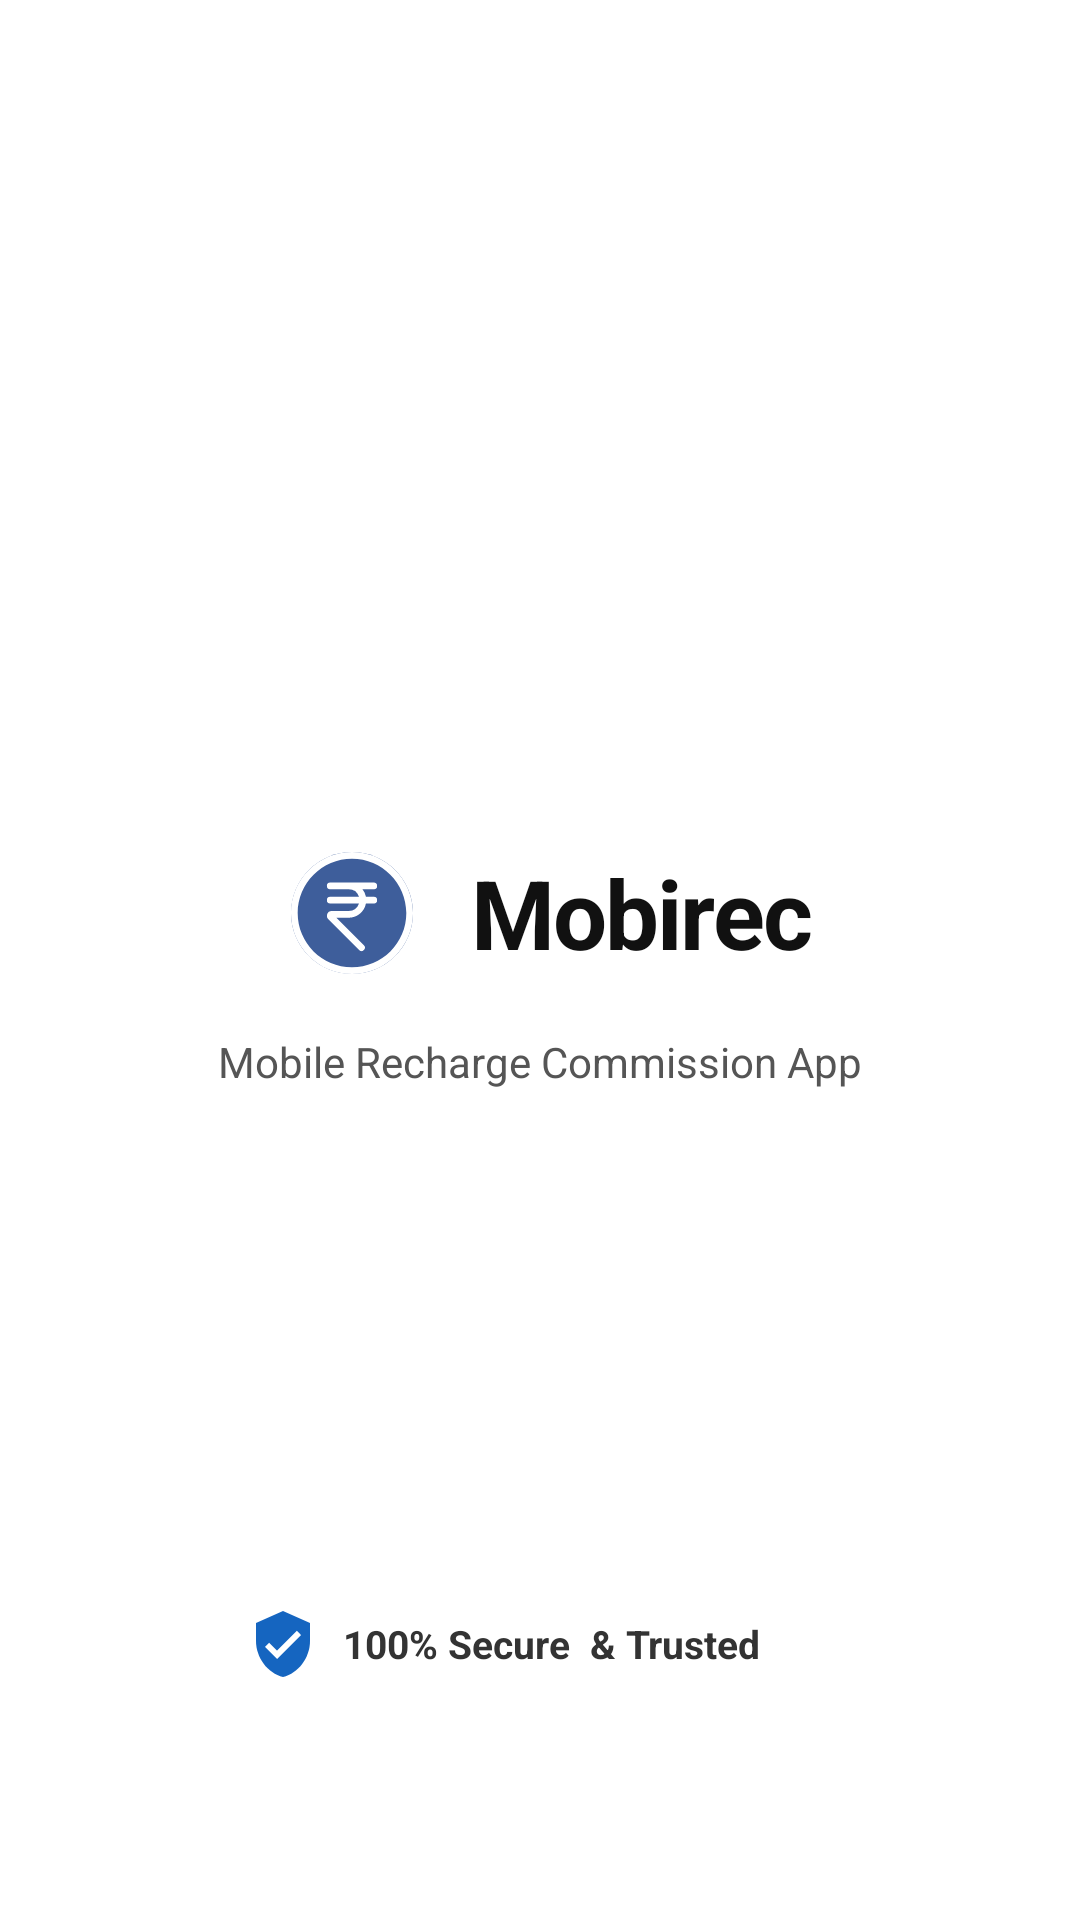

Named icons in this screenshot (1080 x 1920) and their bounding boxes, (x1, y1, x2, y2):
shield secure: (256, 1611, 310, 1677)
